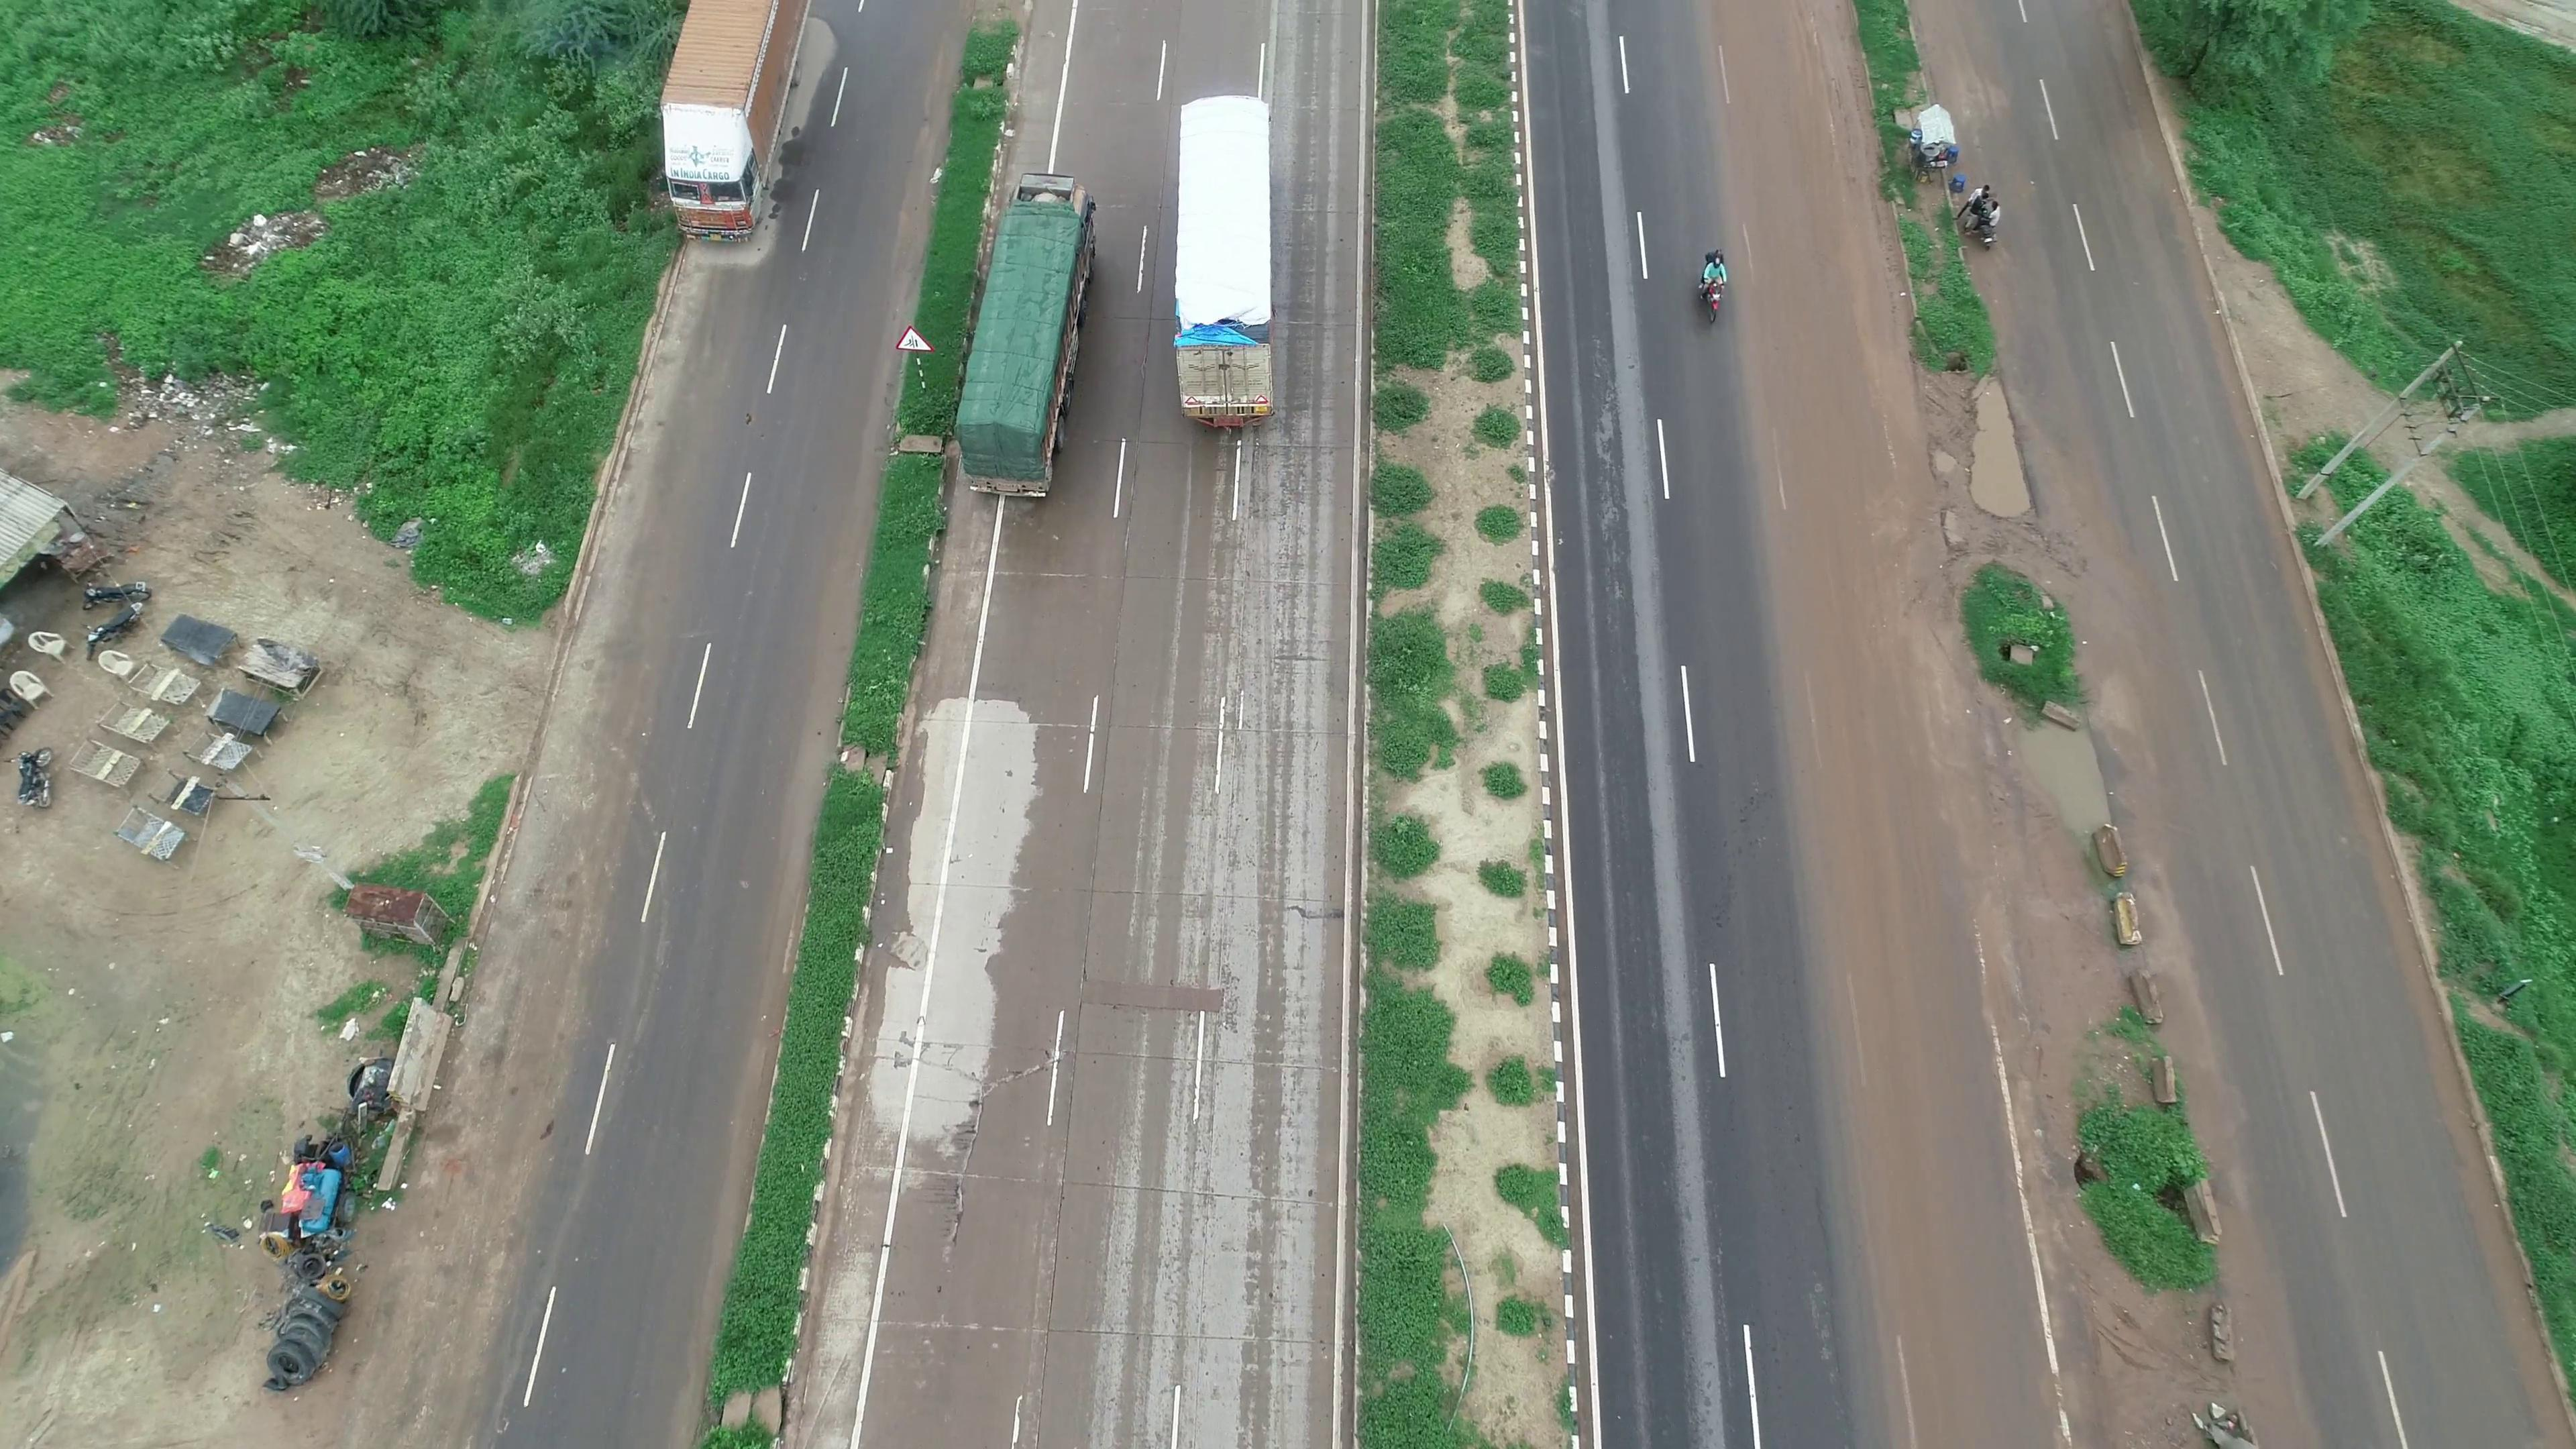Muddy_road: (1801, 934, 2026, 1435), (1755, 478, 1959, 922), (1706, 23, 1904, 469)
Ravelling: (1594, 372, 1626, 605)
